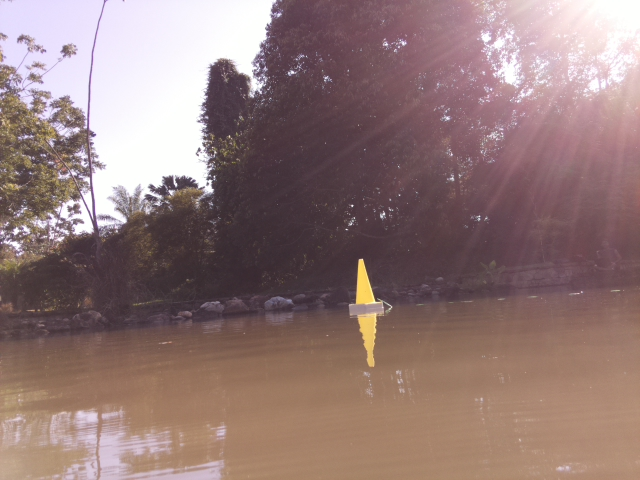checkpoint: (348, 259, 385, 316)
